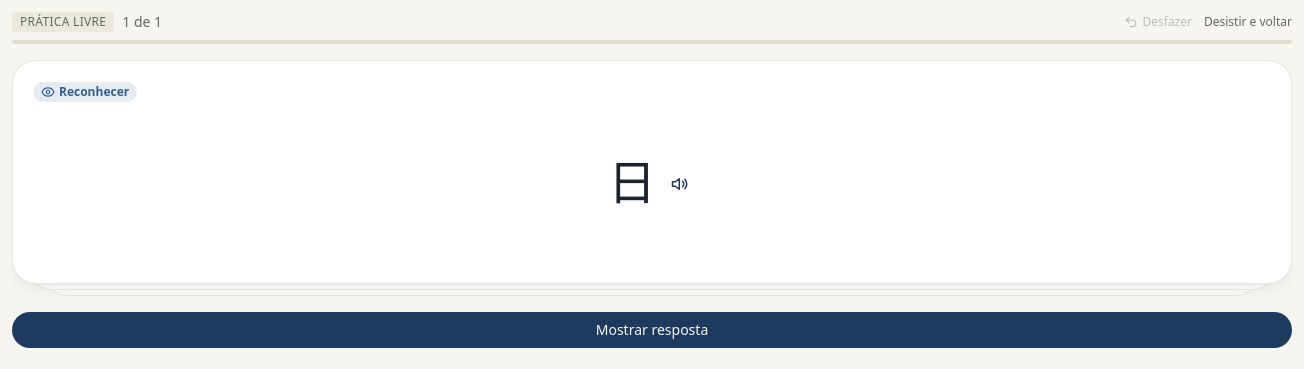
Test: StudySession: como a palavra aparece › item de frente fixa (kanji treinado como caractere): o kanji fica em destaque e a leitura vem como está
The width and height of the screenshot is (1304, 369).
Check: the text "日" is shown, box x1=608 y1=160 x2=656 y2=208
Click the button "Mostrar resposta". click: [652, 330]
box: x1=12 y1=312 x2=1292 y2=348
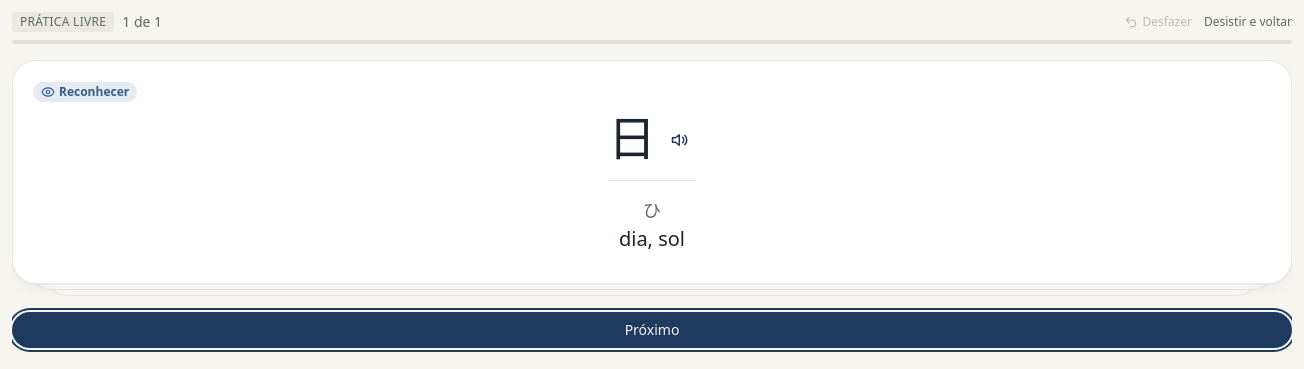
Check: the text "ひ" is shown, box x1=643 y1=200 x2=661 y2=220
